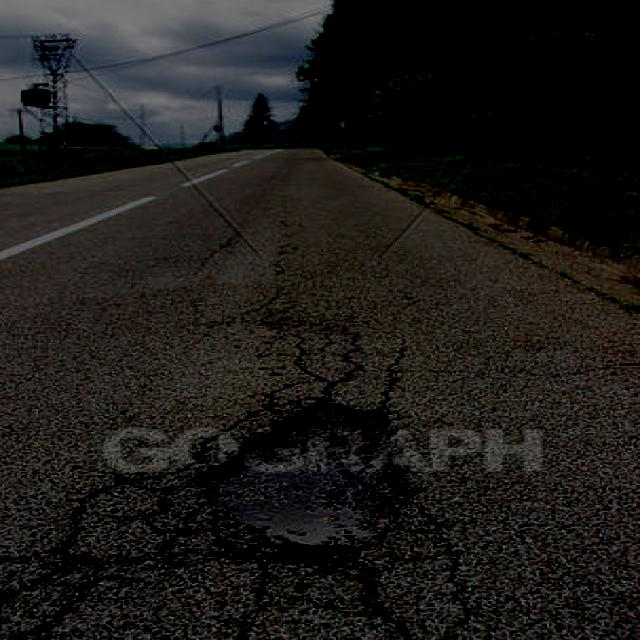Pothole: (0, 331, 482, 640)
